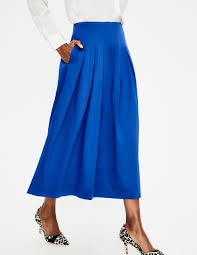C_skirt: (17, 19, 152, 210)
